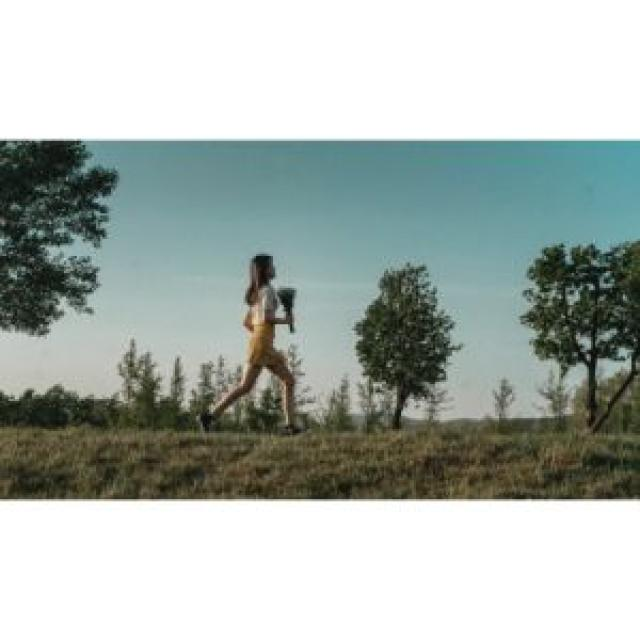nonfall: (197, 244, 325, 434)
